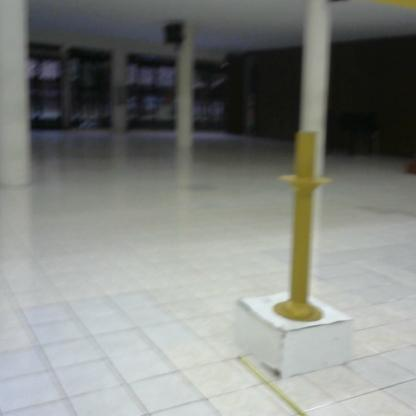pole: (271, 130, 335, 324)
